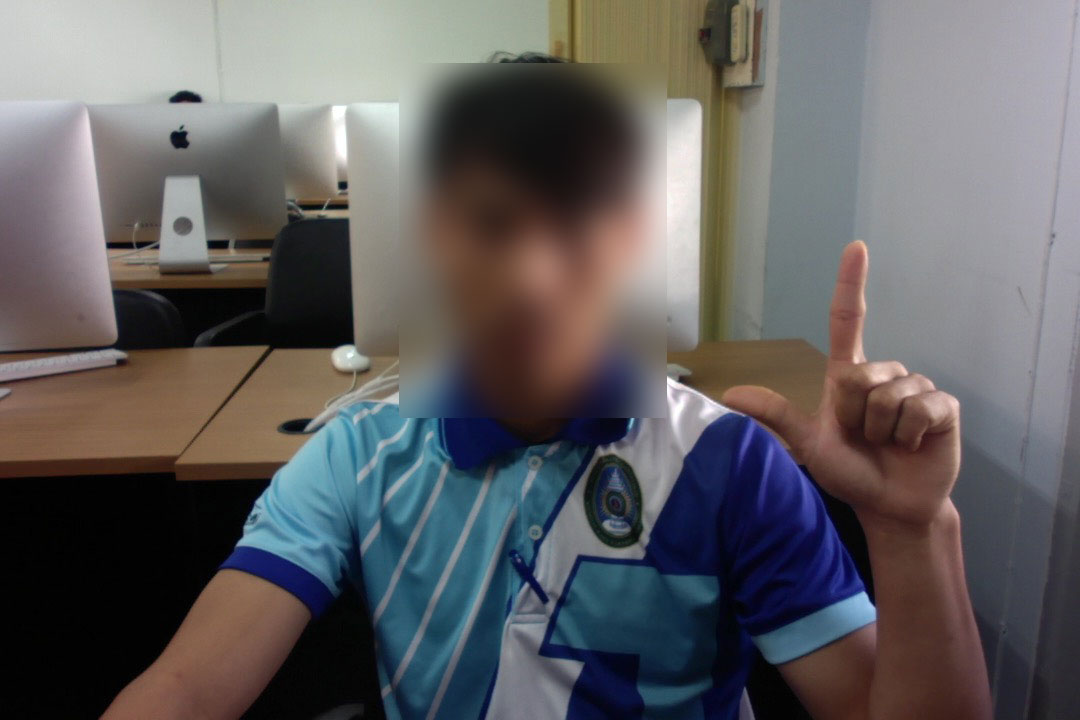lor: (702, 224, 984, 559)
